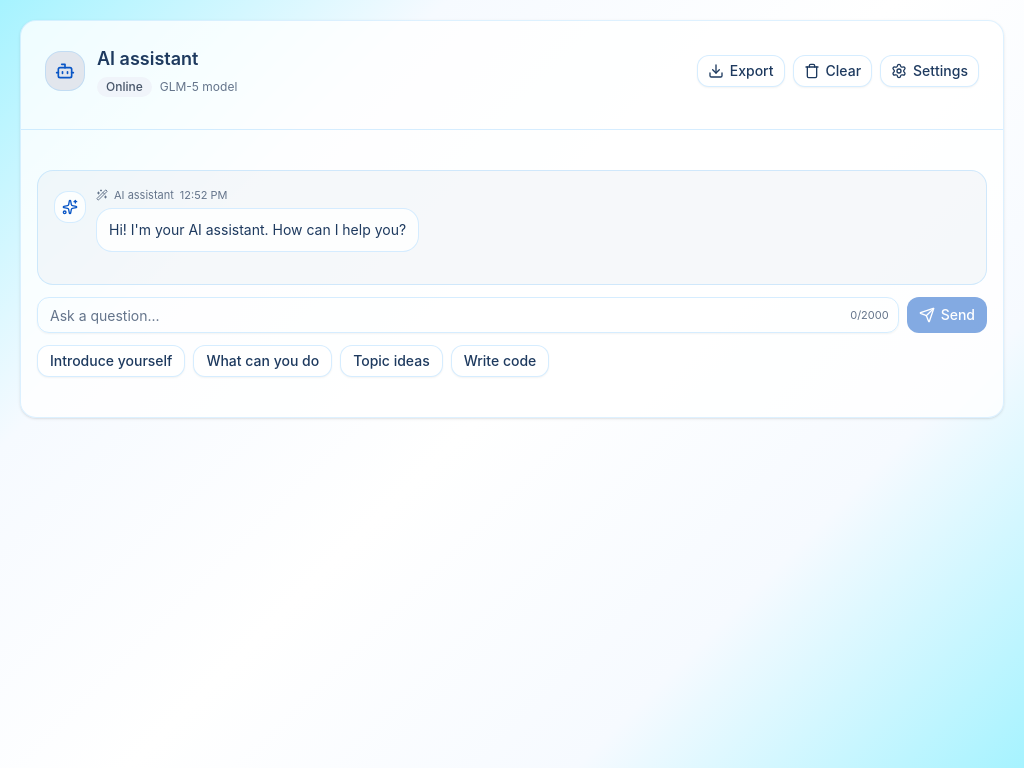
Test: AiChatPage 英文界面 › 页头、开场白、输入框、快捷提问、设置弹窗都是英文，页面上没有一个汉字
Expected: the text "Hi! I'm your AI assistant. How can I help you?" is shown, left=96, top=208, right=419, bottom=252
Expected: the text "GLM-5 model" is shown, left=160, top=79, right=237, bottom=95
What coordinates should you click on to do the following:
click the button "Settings"
I would click on:
 (930, 71)
Its box is left=880, top=55, right=979, bottom=87.
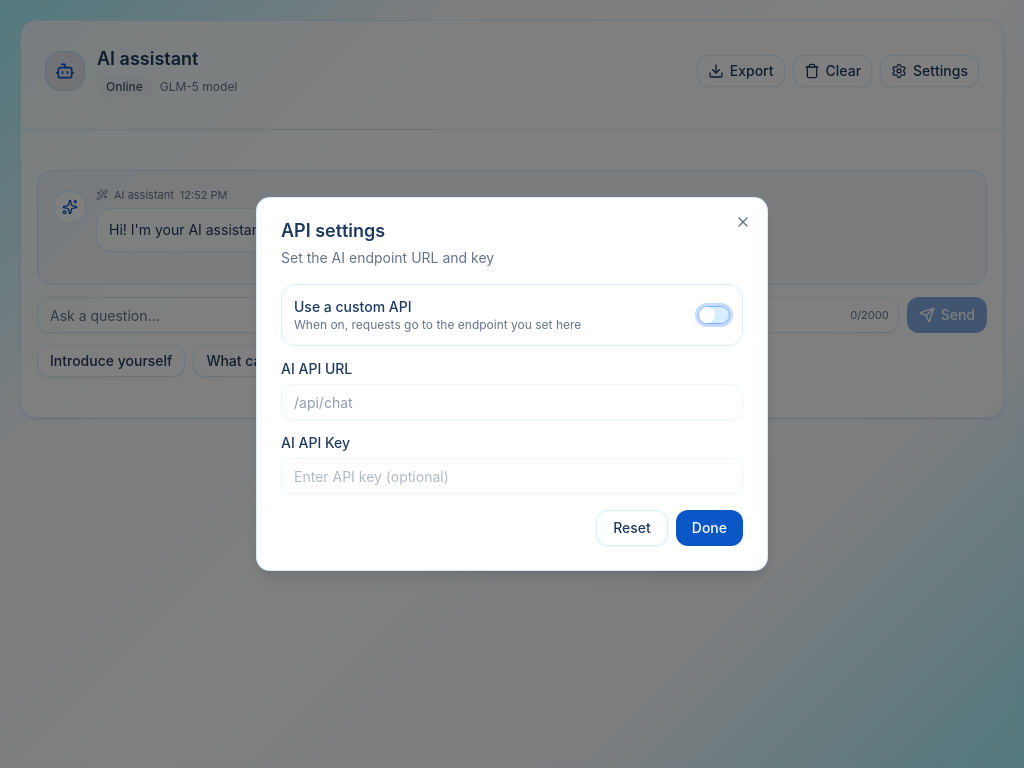
Now the dialog "API settings" is shown, box left=256, top=197, right=768, bottom=571
Now the password field with placeholder "Enter API key (optional)" is shown, box left=281, top=458, right=743, bottom=494
